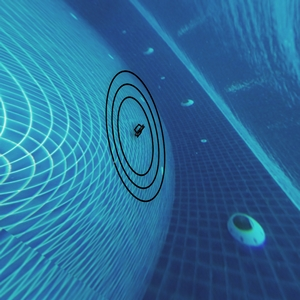circle: (94, 62, 189, 213)
submarine: (135, 124, 143, 134)
